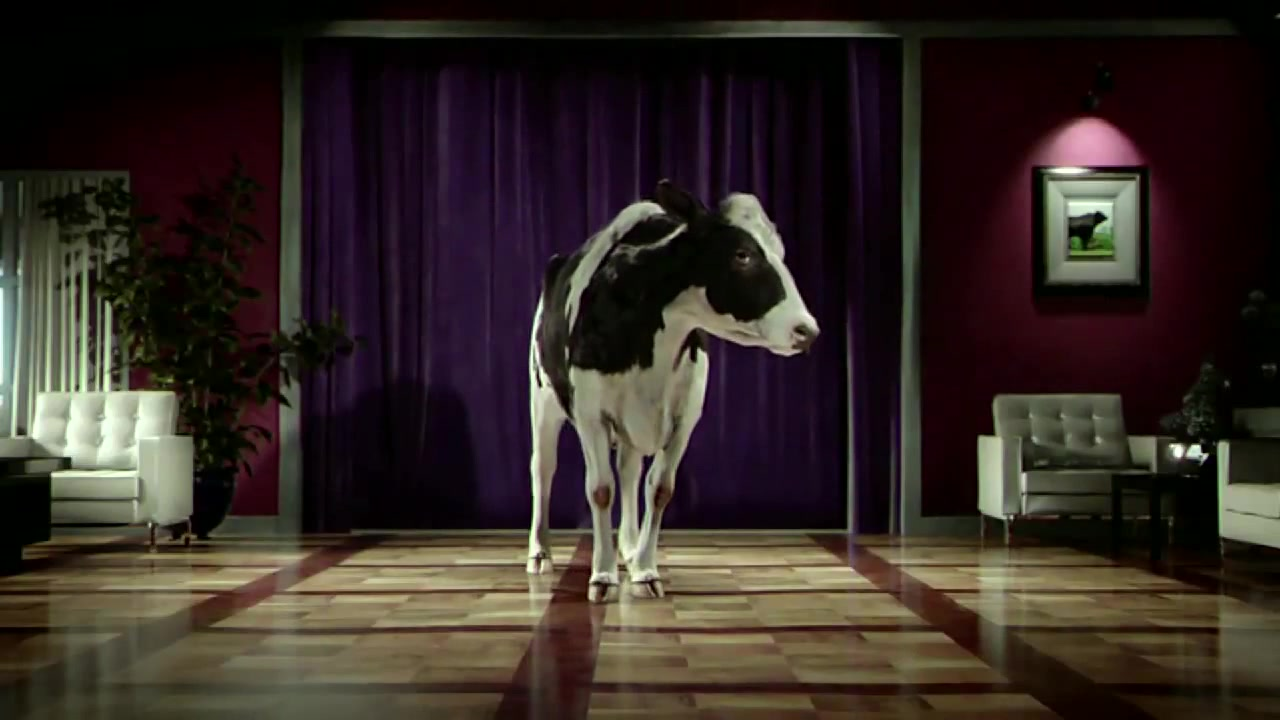cow: (519, 175, 825, 603)
